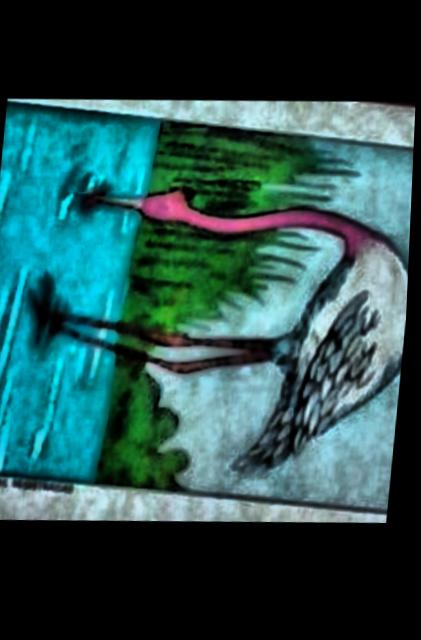La Garza: (0, 103, 415, 515)
